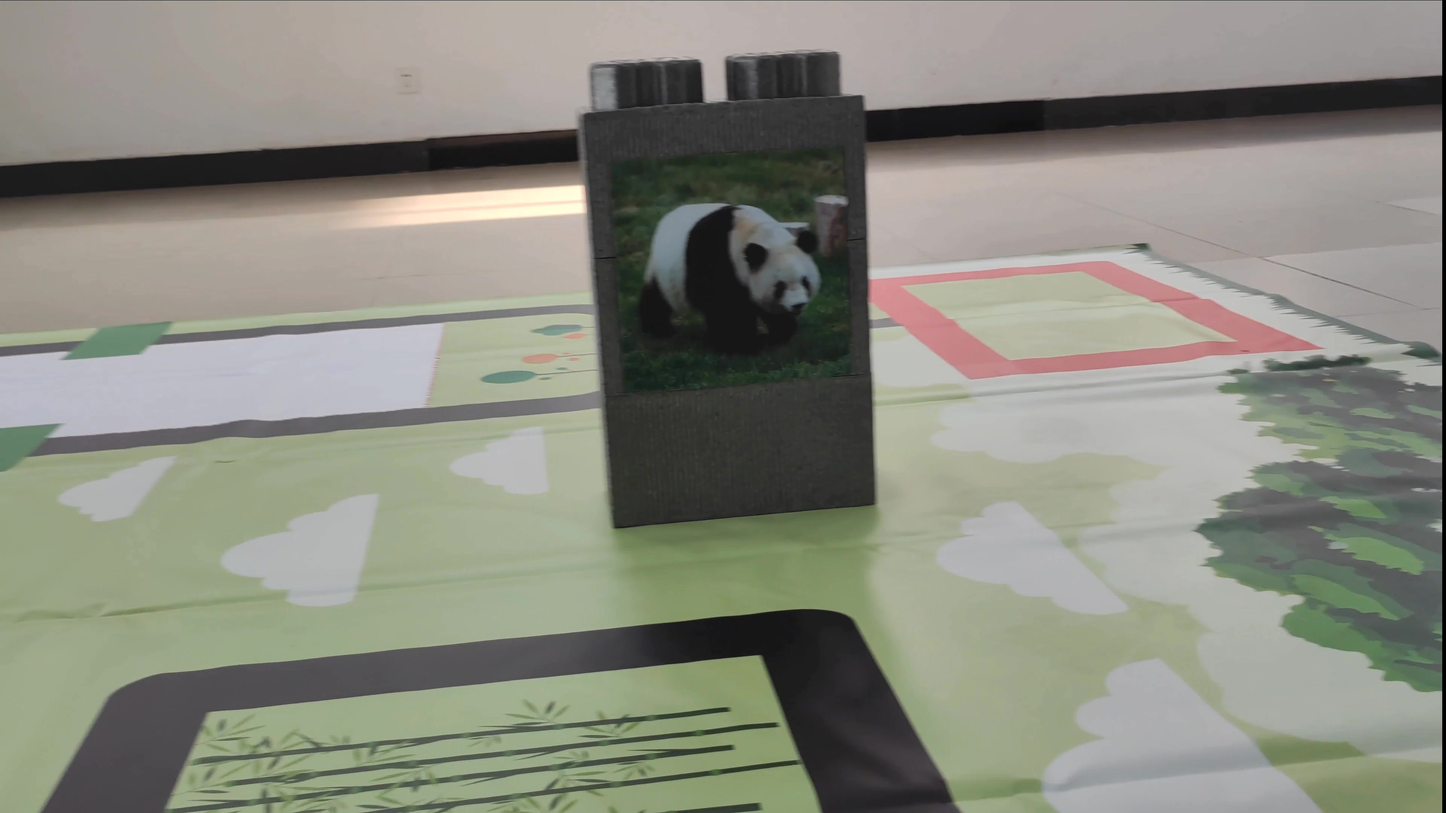panda: (629, 191, 839, 388)
